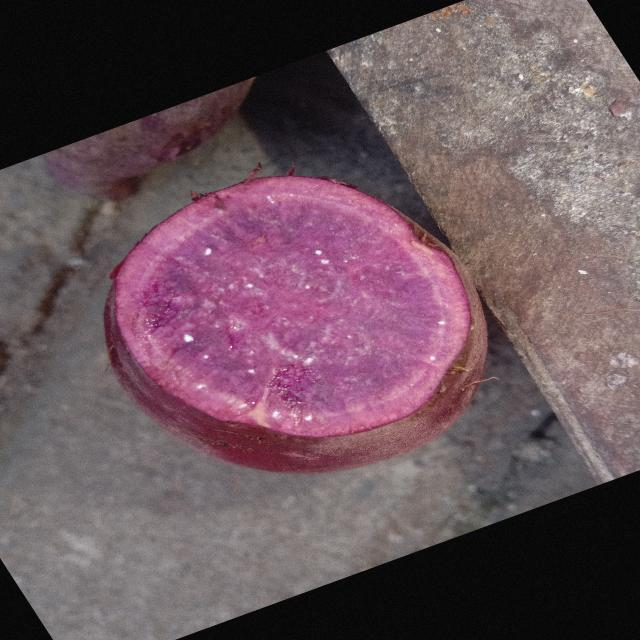Healthy Sweet Potato: (105, 176, 487, 472)
